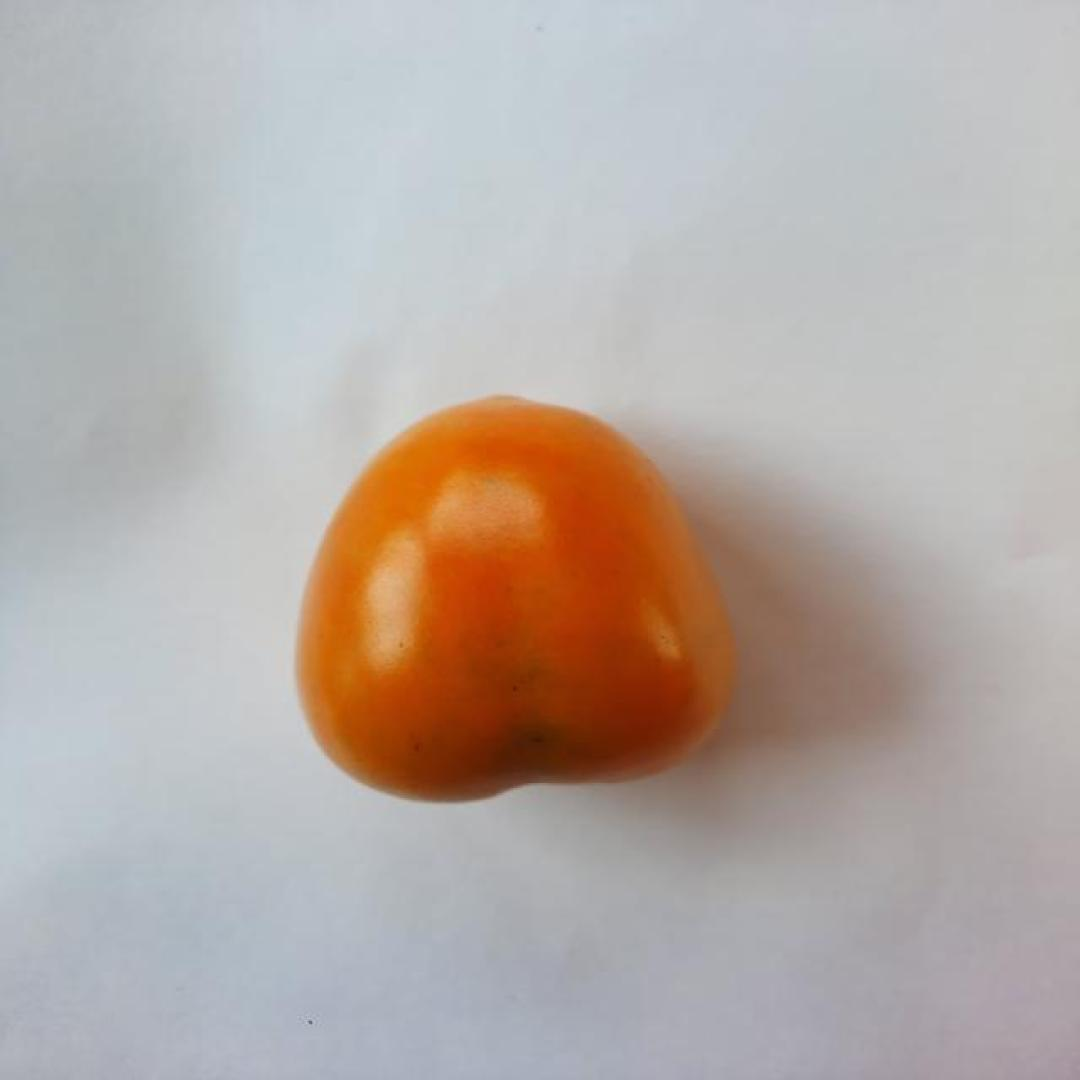setengah_matang: (292, 391, 737, 806)
